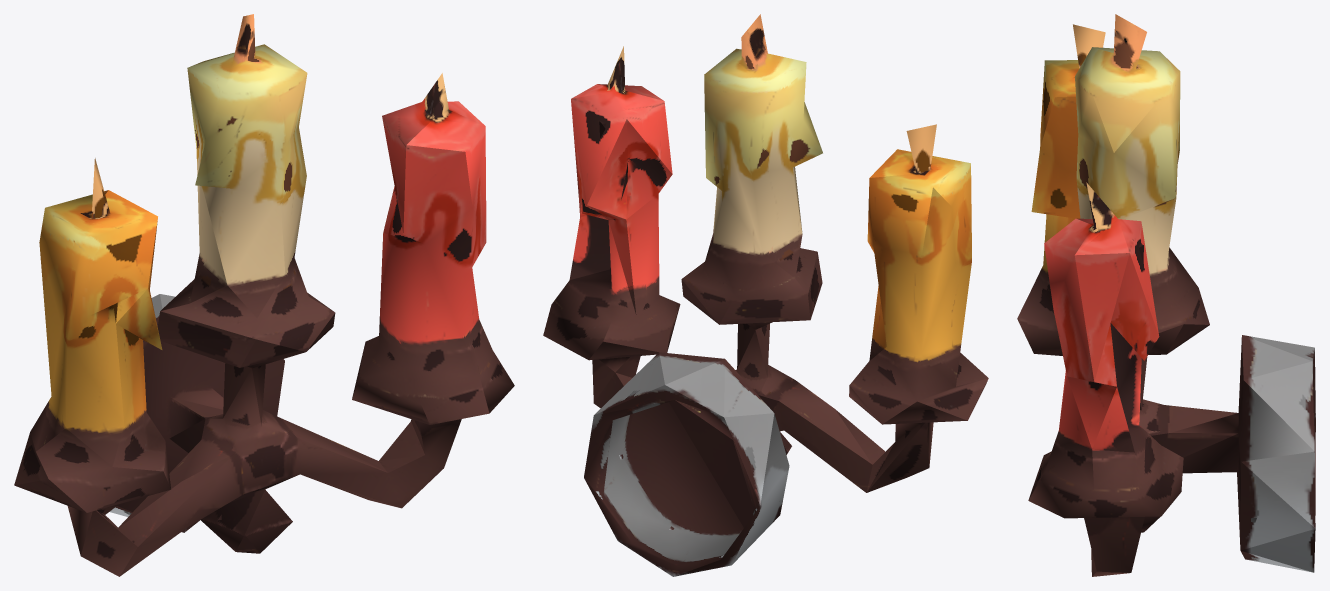
File: beeswax-candle-sconce.glb
3 views of the same model, side by side, from view 1: azimuth 30°, elevation 25°; view 2: azimuth 150°, elevation 25°; view 3: azimuth 270°, elevation 25° (orthographic). The views are drawn at different scales.
Visible parts, largest first — view 1: geometry_0.001; view 2: geometry_0.001; view 3: geometry_0.001.
Part boxes in pixels (<box>): geometry_0.001: <box>14,14,514,576</box>; geometry_0.001: <box>543,14,988,576</box>; geometry_0.001: <box>1017,14,1315,576</box>.
Size of the model in its own units: 0.8668 by 1.01 by 0.4909.
1 material, 1 textured.
